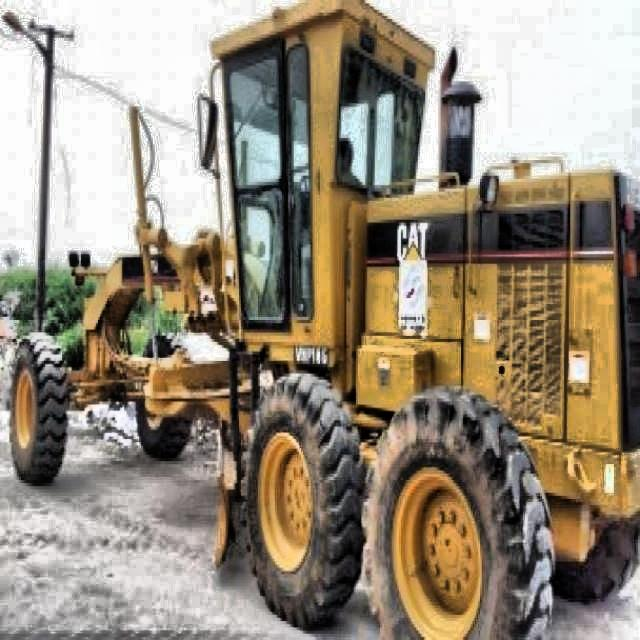bull_dozer/loader/grader: (7, 0, 640, 640)
person: (336, 136, 366, 190)
